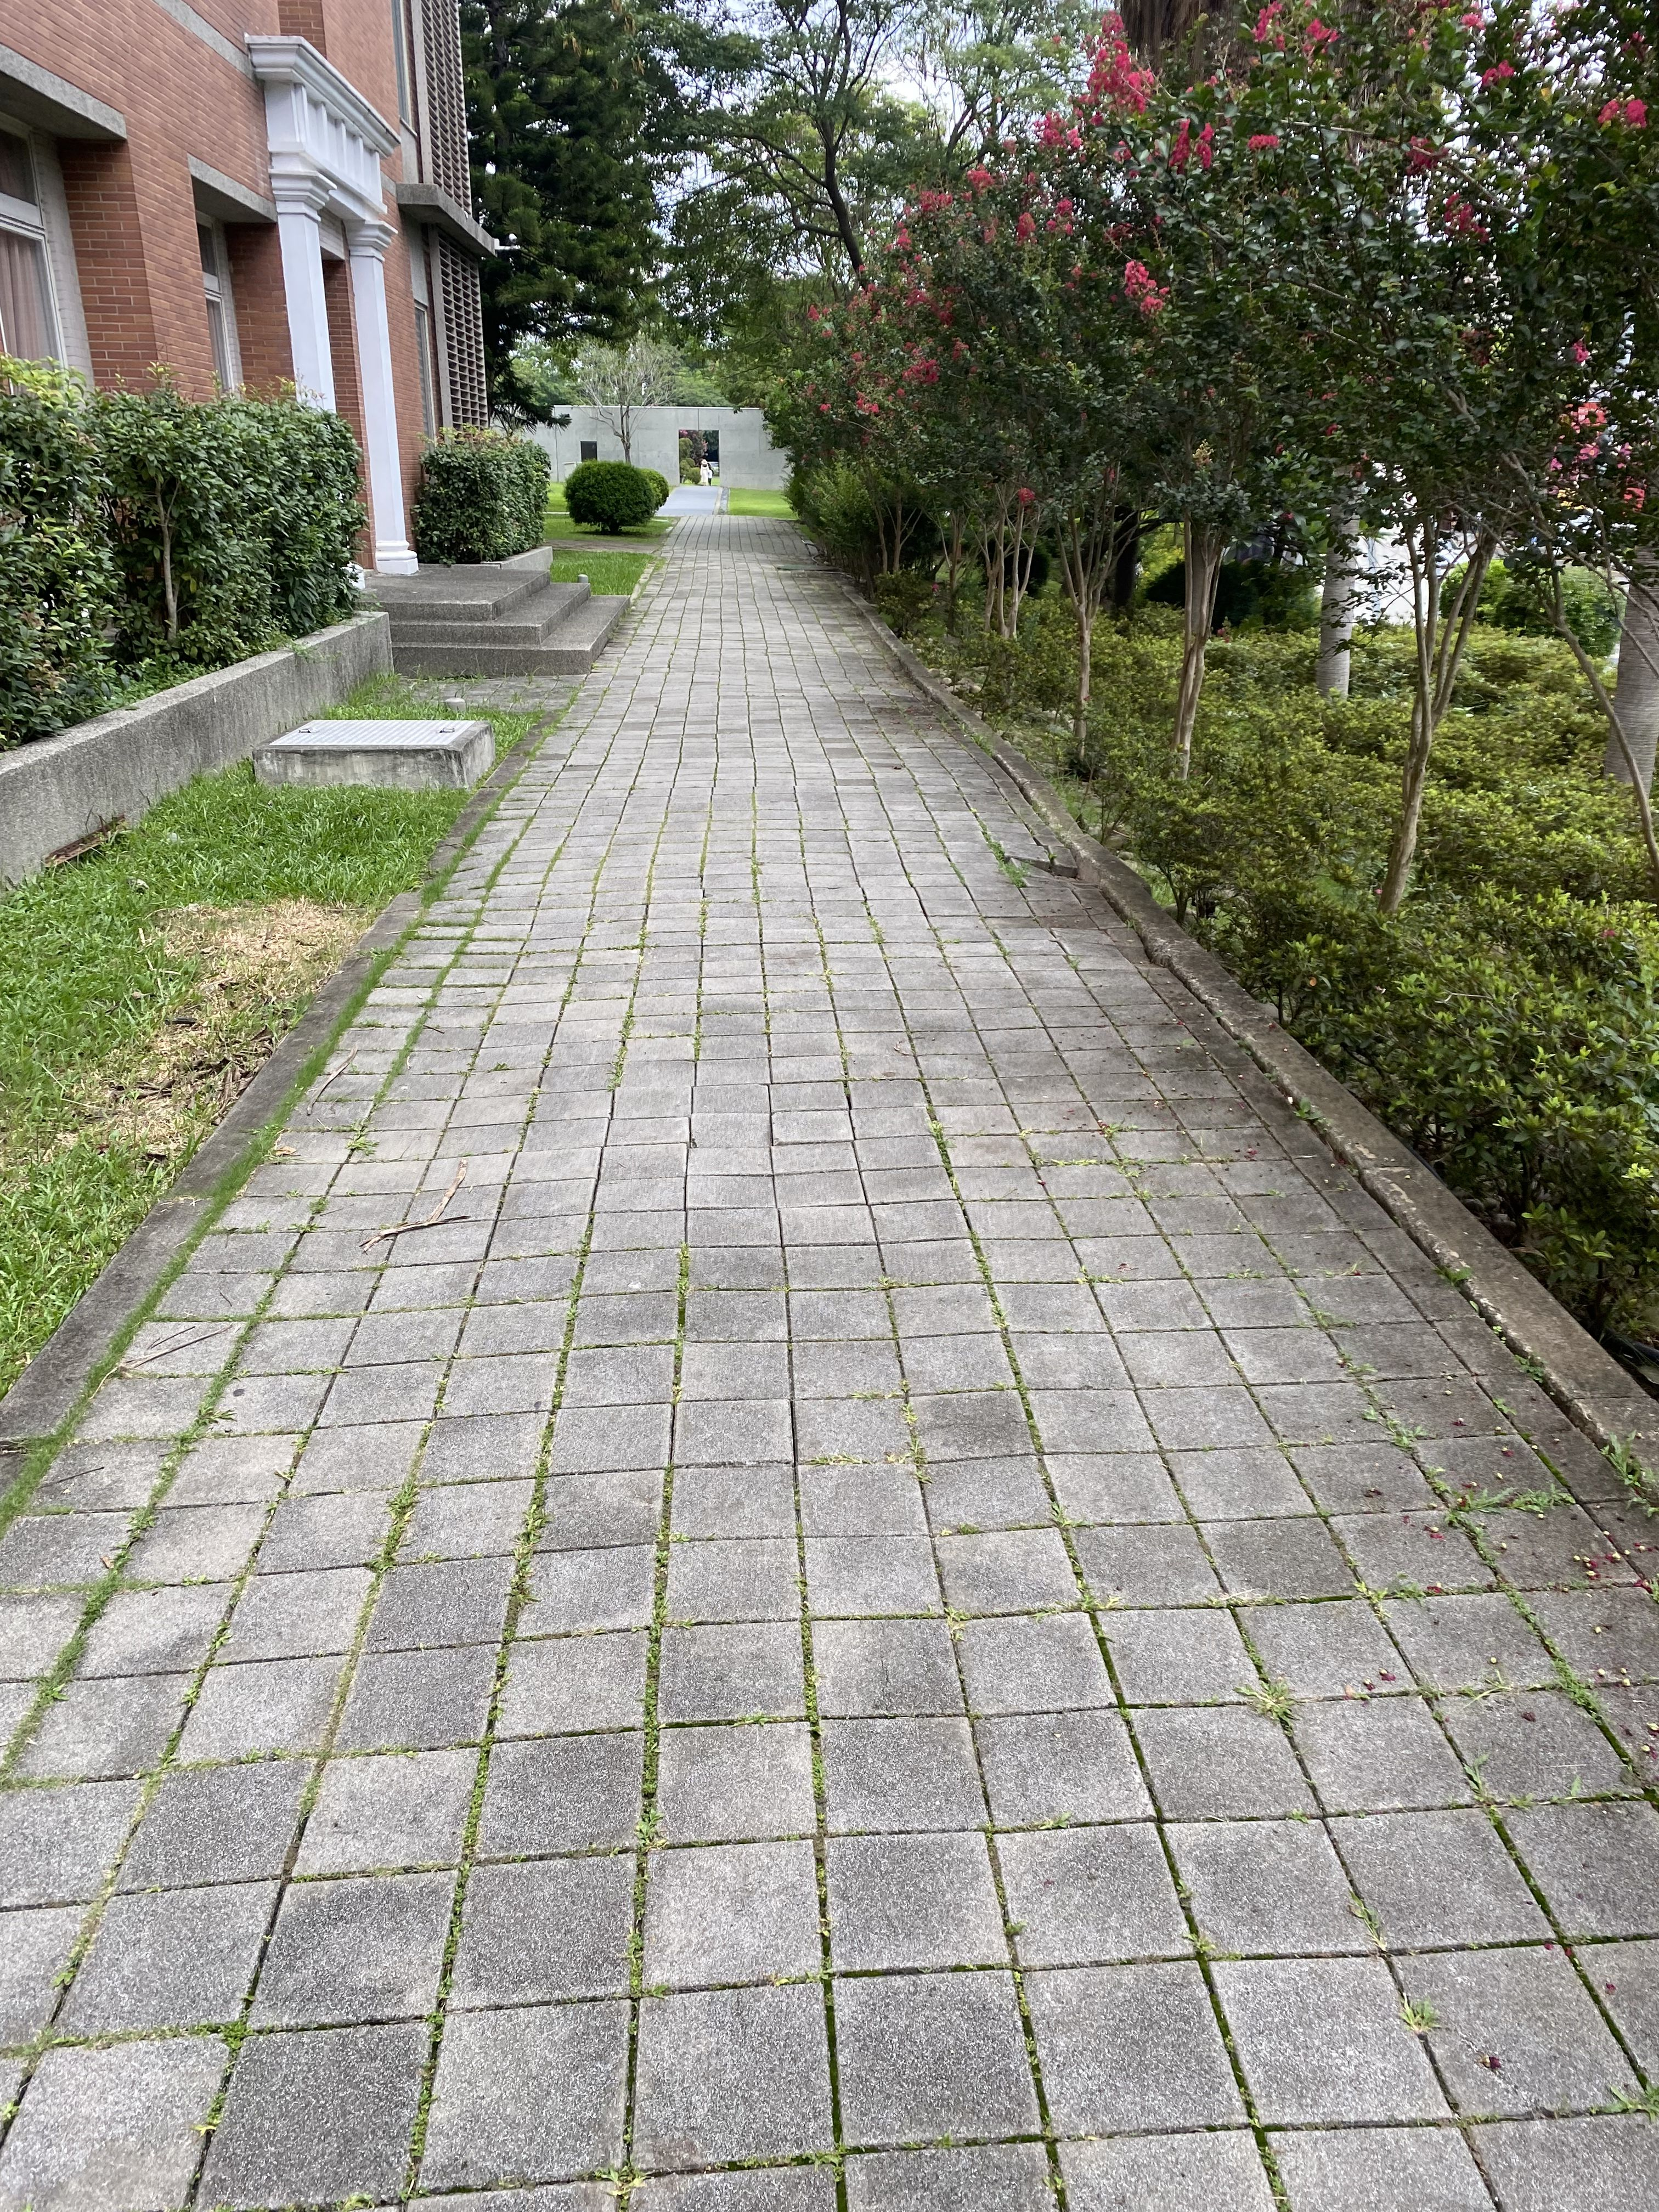0: (3, 721, 638, 2207)
sidewalk: (573, 512, 1657, 2212)
